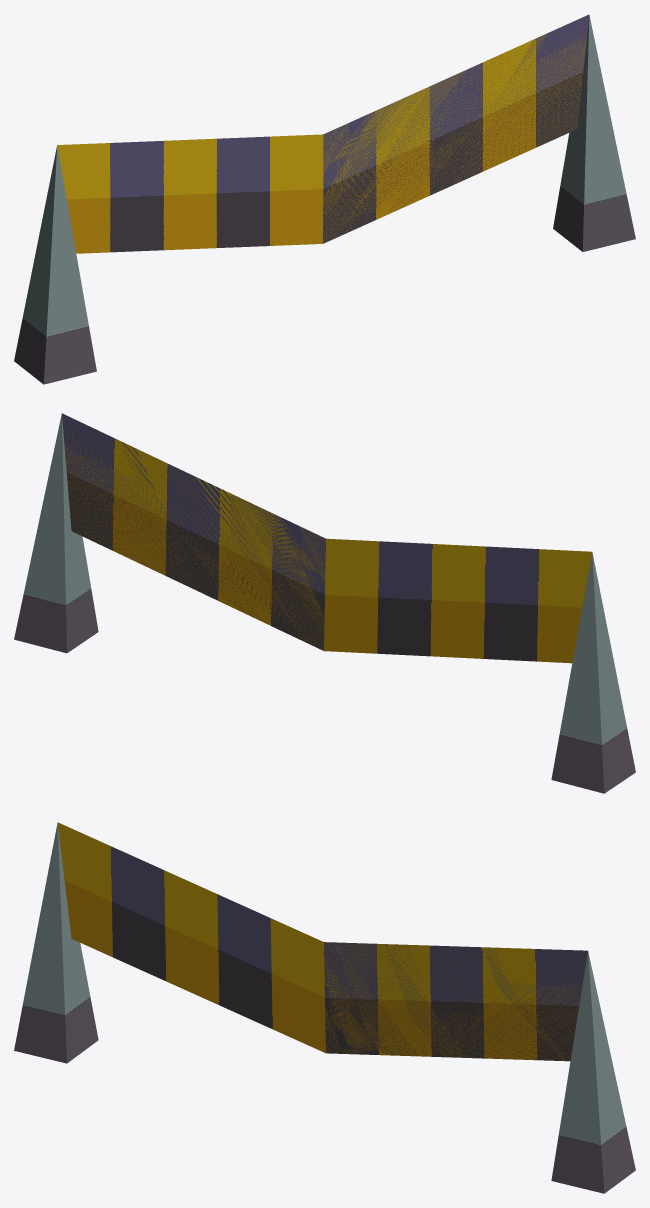
Rendered from tape.fbx.
The picture shows the model from 3 angles, top to bottom: view 1: azimuth 30°, elevation 25°; view 2: azimuth 150°, elevation 25°; view 3: azimuth 330°, elevation 25°; orthographic projection.
Parts seen in each view (by area): view 1: Tape; view 2: Tape; view 3: Tape.
Boxes of the visible parts, x1,y1,x2,y2 form: Tape: (14,14,635,384); Tape: (14,413,635,793); Tape: (14,822,635,1193).
Size of the model in its own units: 34.82 by 12.83 by 3.59.
Materials: 1 (1 with a texture image).
